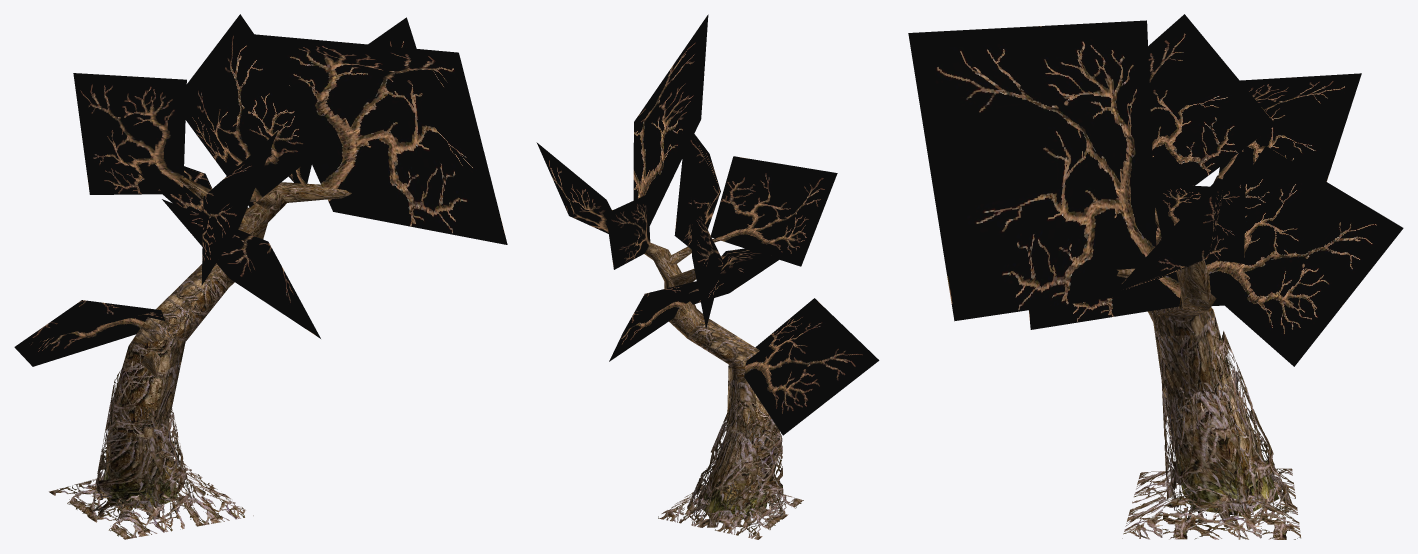
Rendered from w_cd_hotree02.glb.
The picture shows the model from 3 angles, left to right: view 1: azimuth 30°, elevation 25°; view 2: azimuth 150°, elevation 25°; view 3: azimuth 270°, elevation 25°; orthographic projection. The views are drawn at different scales.
Parts seen in each view (by area): view 1: w_cd_hotree02_al02, w_cd_hotree02, w_cd_hotree02_al01; view 2: w_cd_hotree02_al02, w_cd_hotree02, w_cd_hotree02_al01; view 3: w_cd_hotree02_al02, w_cd_hotree02_al01, w_cd_hotree02.
Part boxes in pixels (x1=…): w_cd_hotree02_al02: x1=14, y1=14, x2=507, y2=366; w_cd_hotree02: x1=104, y1=177, x2=351, y2=508; w_cd_hotree02_al01: x1=49, y1=369, x2=253, y2=539; w_cd_hotree02_al02: x1=536, y1=14, x2=879, y2=435; w_cd_hotree02: x1=612, y1=210, x2=781, y2=519; w_cd_hotree02_al01: x1=658, y1=398, x2=803, y2=539; w_cd_hotree02_al02: x1=908, y1=14, x2=1403, y2=366; w_cd_hotree02_al01: x1=1122, y1=331, x2=1300, y2=539; w_cd_hotree02: x1=1117, y1=175, x2=1279, y2=516.
Size of the model in its own units: 9.5 by 10.91 by 8.67.
Materials: 5 (5 with a texture image).
